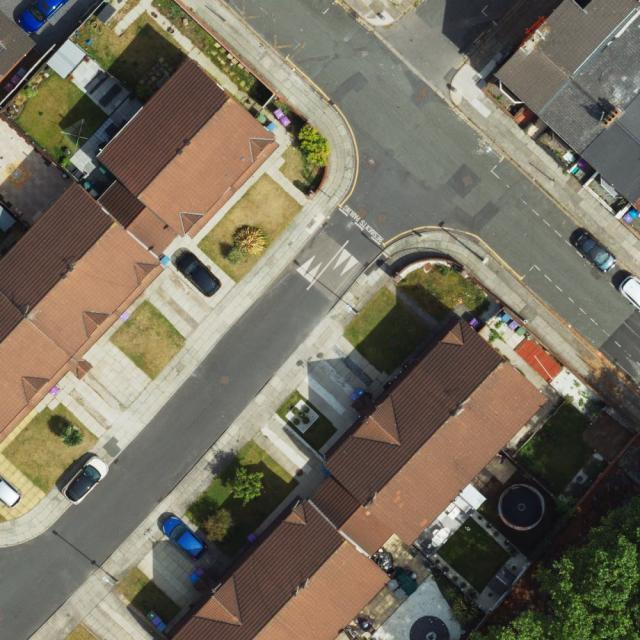roof: (172, 316, 550, 640), (0, 60, 285, 441), (497, 0, 640, 218), (0, 8, 36, 82)
